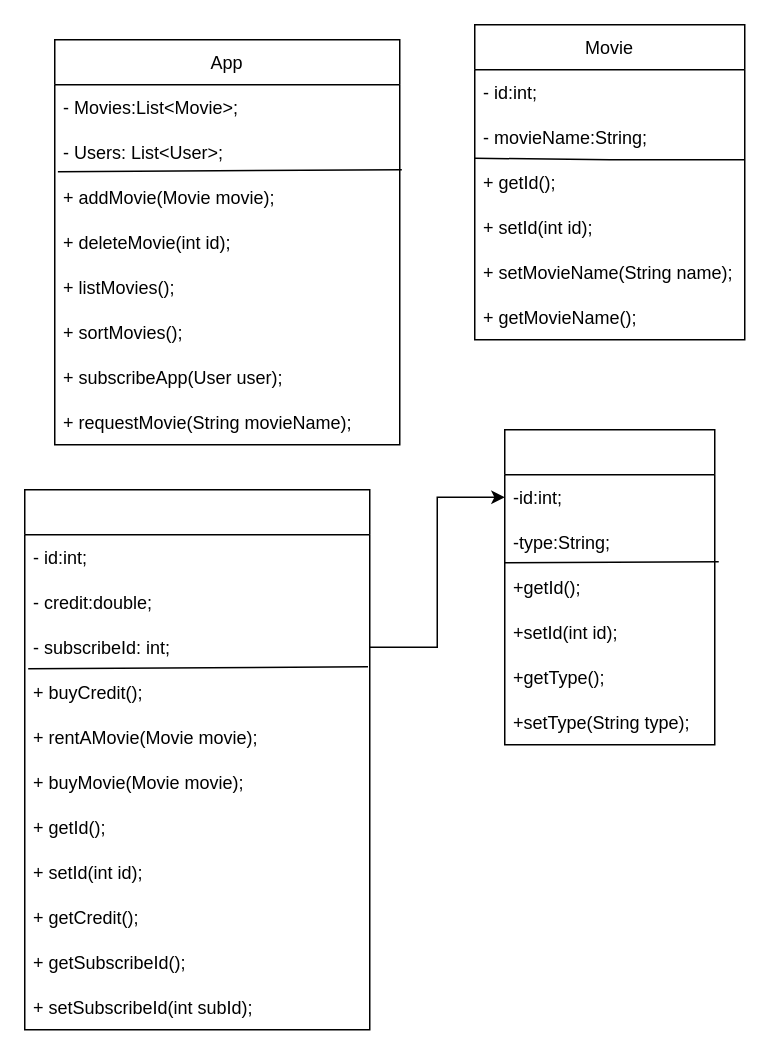
The diagram is 770 pixels wide and 1055 high, and some of its shapes have lost their labels. The box of each missing label's shape, as (x1, y1, x2, y2) in pixels:
SubscribeType: (503, 428, 715, 745)
User: (23, 488, 370, 1030)
